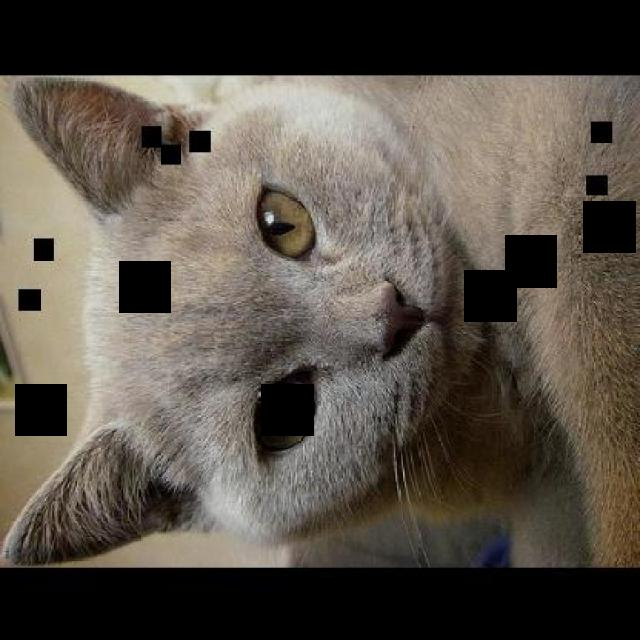unauthorized: (0, 72, 638, 567)
